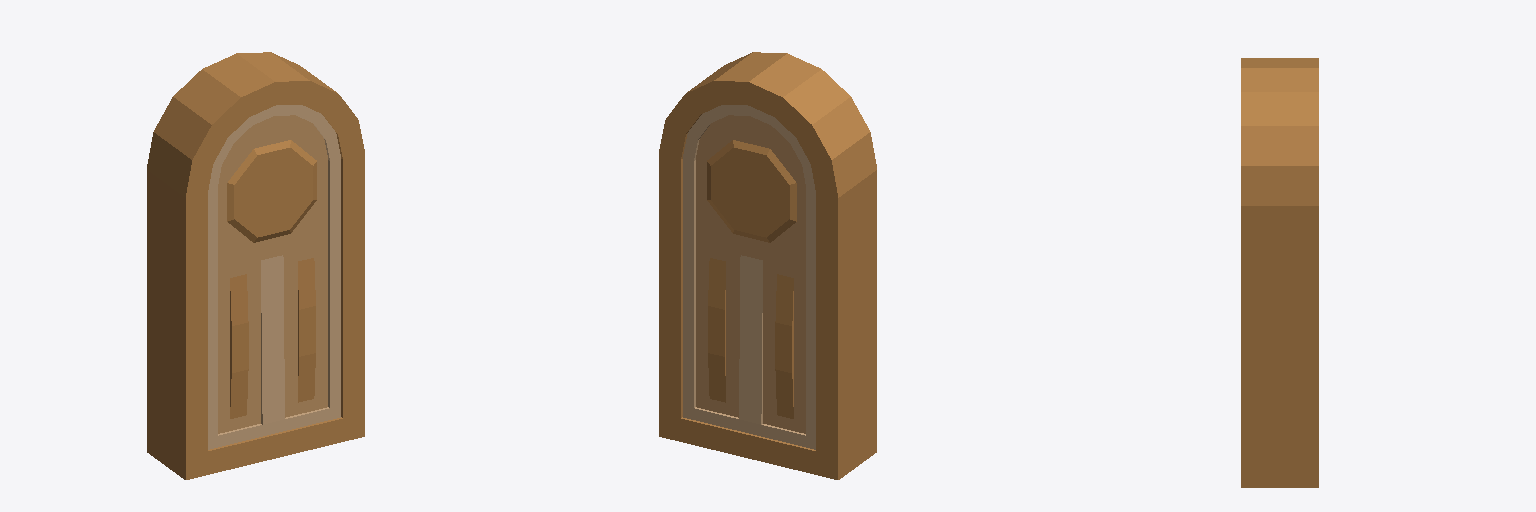
The model's file is Wall_Straight_Door_Sun.obj.
3 renders of one model, left to right at view 1: azimuth 30°, elevation 25°; view 2: azimuth 150°, elevation 25°; view 3: azimuth 270°, elevation 25°, orthographic.
Visible parts, largest first — view 1: object1; view 2: object1; view 3: object1.
Boxes of the visible parts, x1=… form: object1: x1=147, y1=52, x2=364, y2=479; object1: x1=659, y1=52, x2=876, y2=479; object1: x1=1241, y1=58, x2=1318, y2=487.
Size of the model in its own units: 0.8 by 1.6 by 0.3.